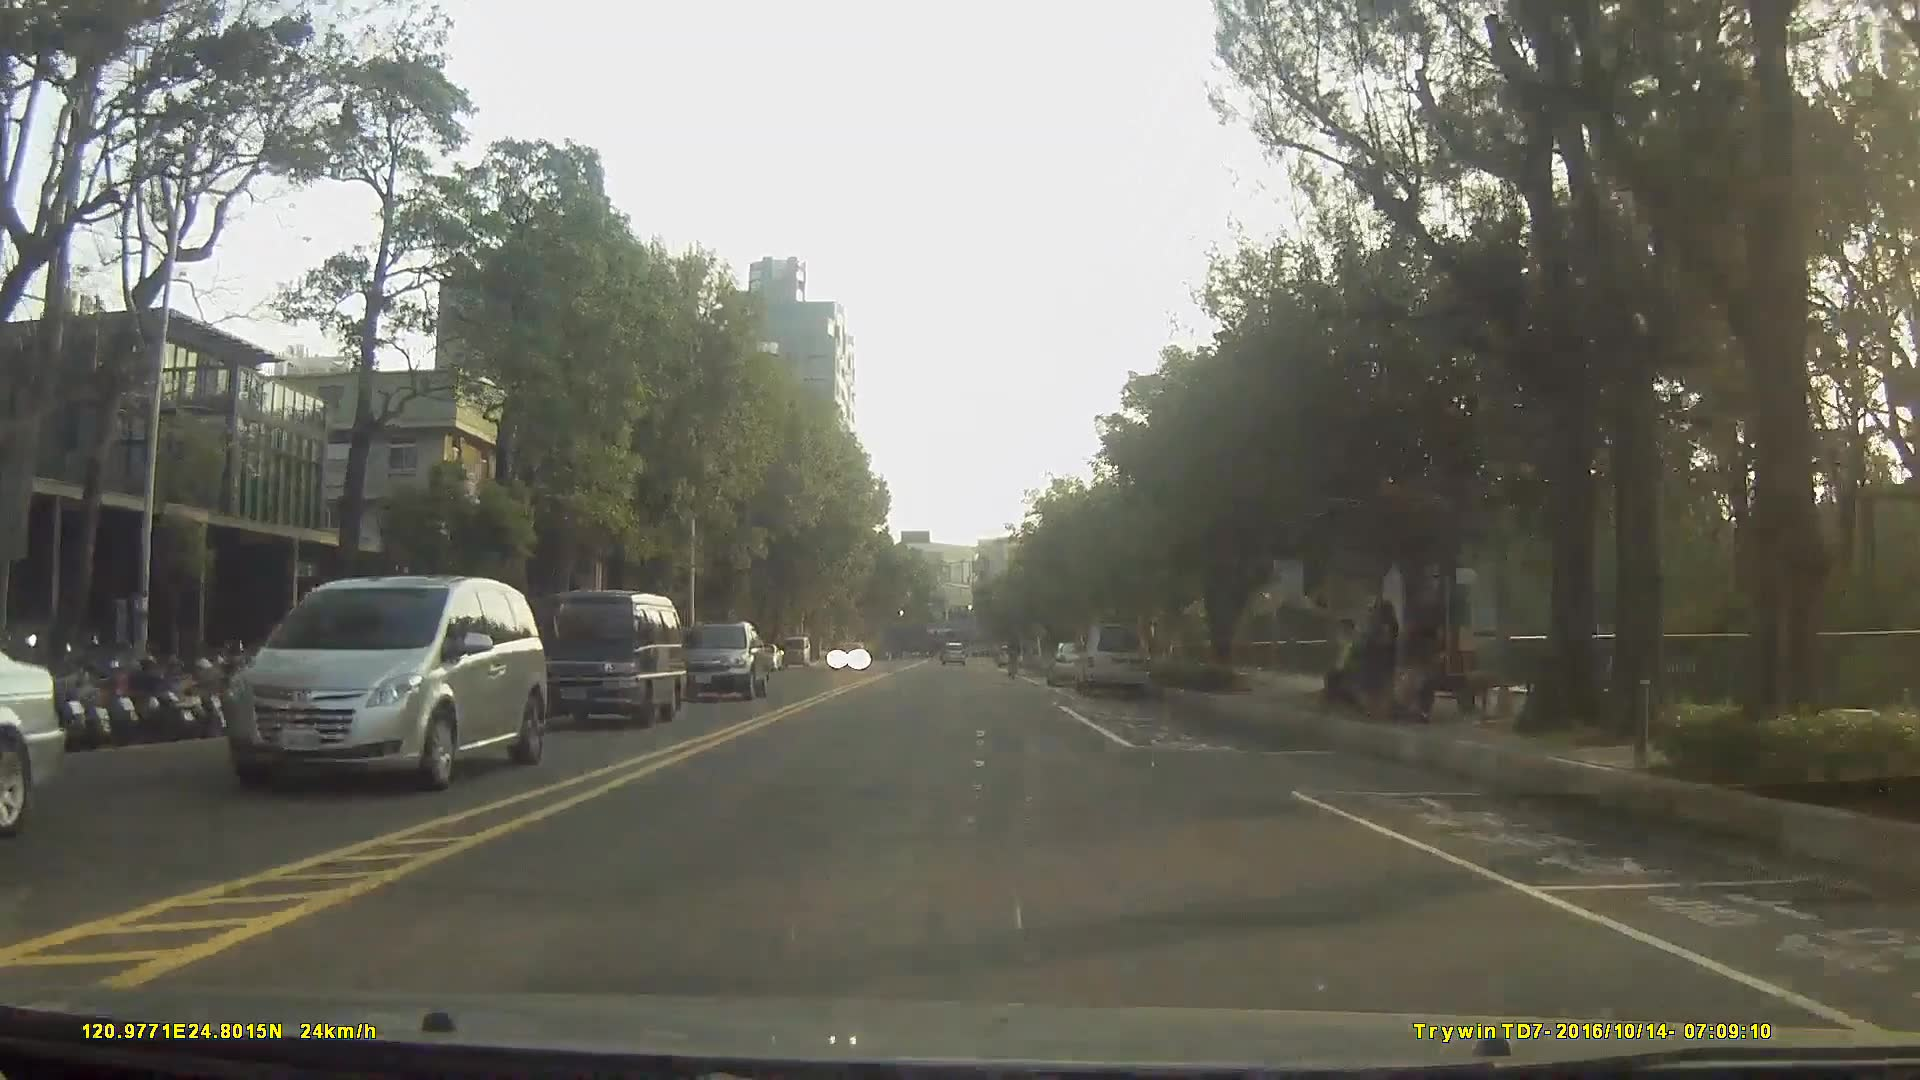pedestrian: (1354, 600, 1401, 724), (1389, 618, 1439, 722), (1321, 612, 1365, 712)
rider: (1005, 632, 1025, 685)
vehicle: (226, 573, 544, 793), (517, 585, 687, 728), (672, 619, 770, 697), (1071, 624, 1152, 698), (1047, 640, 1100, 685), (827, 640, 868, 672), (778, 637, 812, 671), (937, 636, 964, 664)
